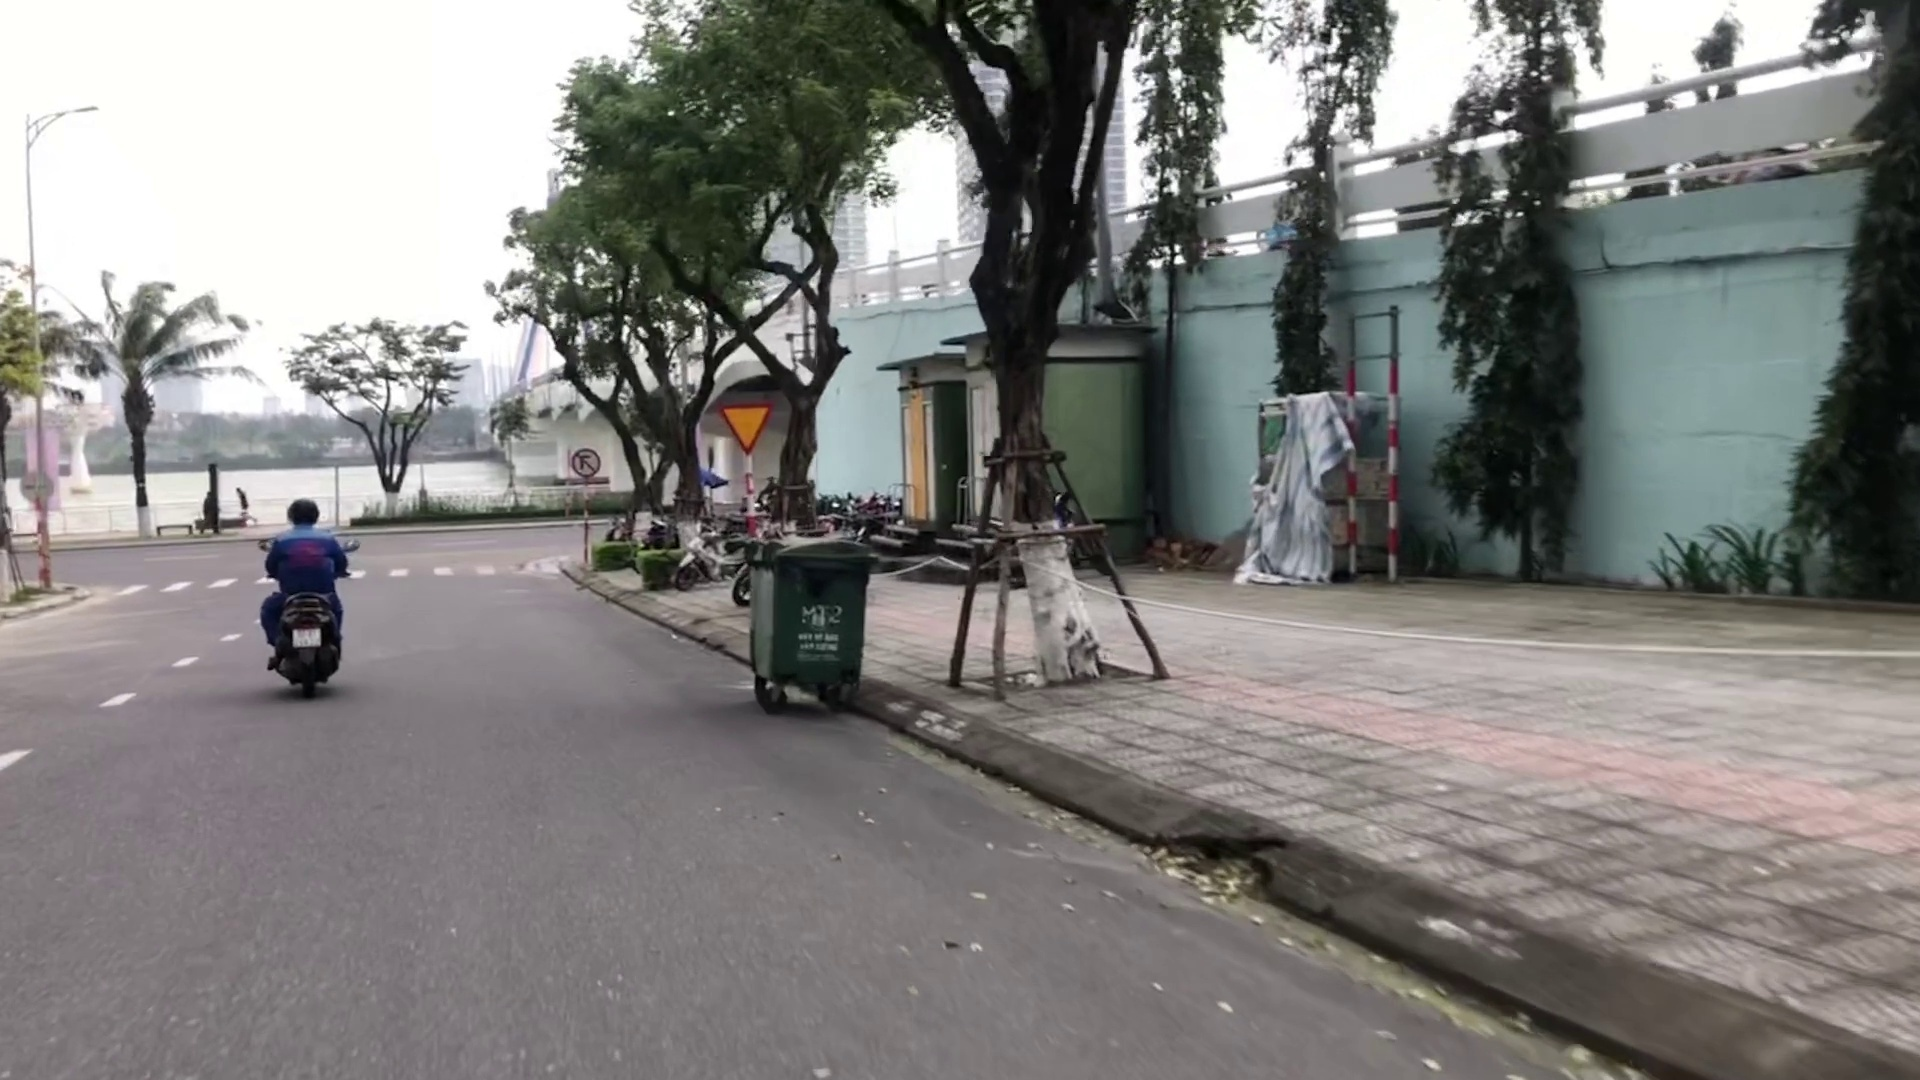Bien khac: (717, 400, 771, 455), (568, 446, 603, 479)
